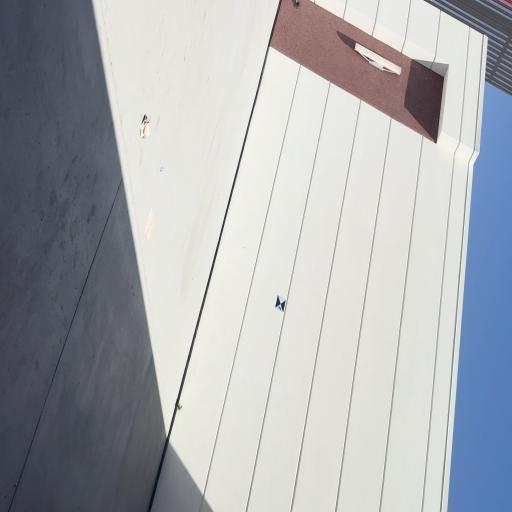target7: (275, 295, 286, 313)
